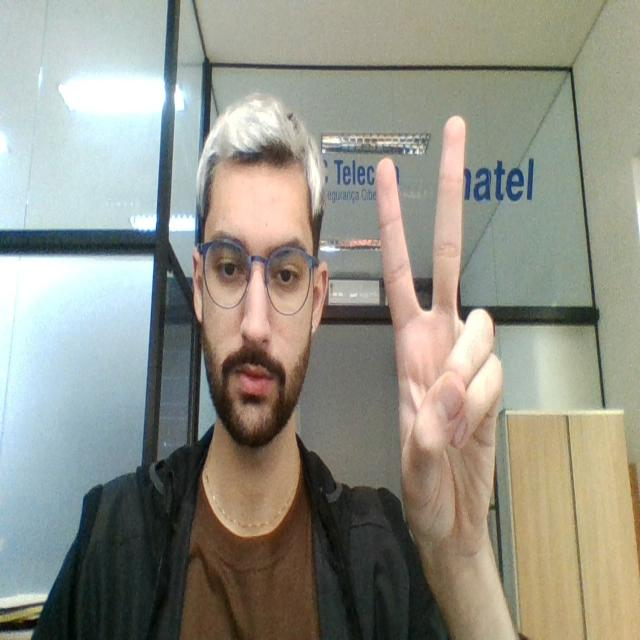V: (368, 113, 507, 548)
